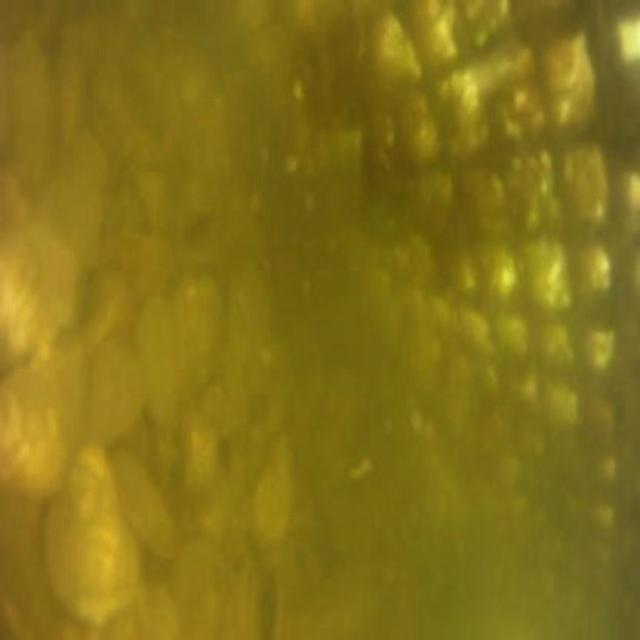Oyster-Closed: (42, 444, 146, 628), (0, 350, 91, 489), (0, 212, 75, 368), (143, 283, 216, 428), (90, 331, 140, 450), (52, 156, 95, 274), (259, 459, 292, 524)
Oyster-Open: (238, 560, 290, 640)
